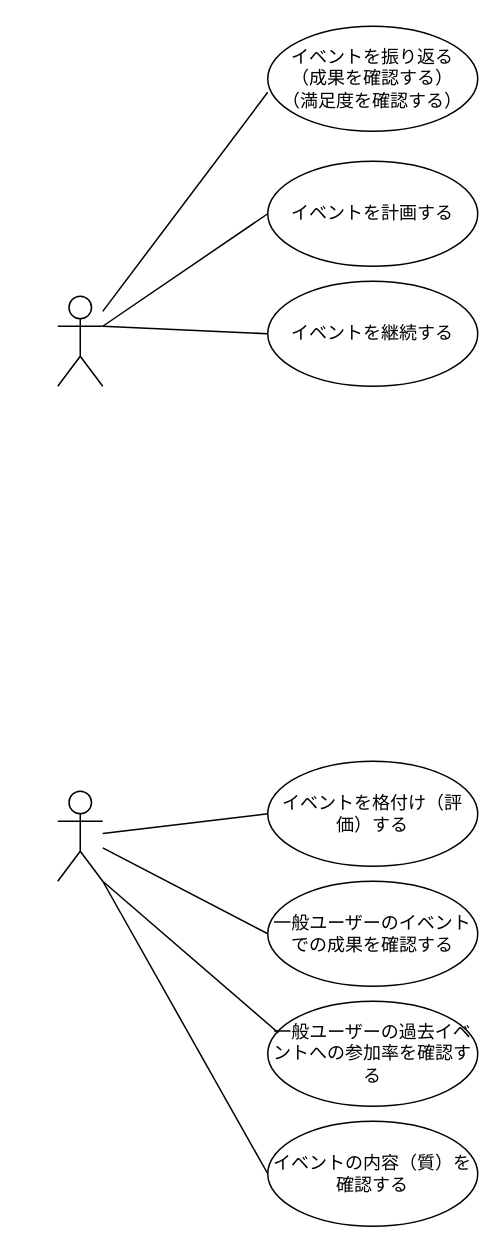
Some shapes in this 504 by 1253 pixel diagram are drawn without their labels. The shapes that lost their labels are listed below. From the top down, each one's centre as x and y in pixels, then its label:
At (79,340): "主催者".
At (79,835): "一般ユーザー".
